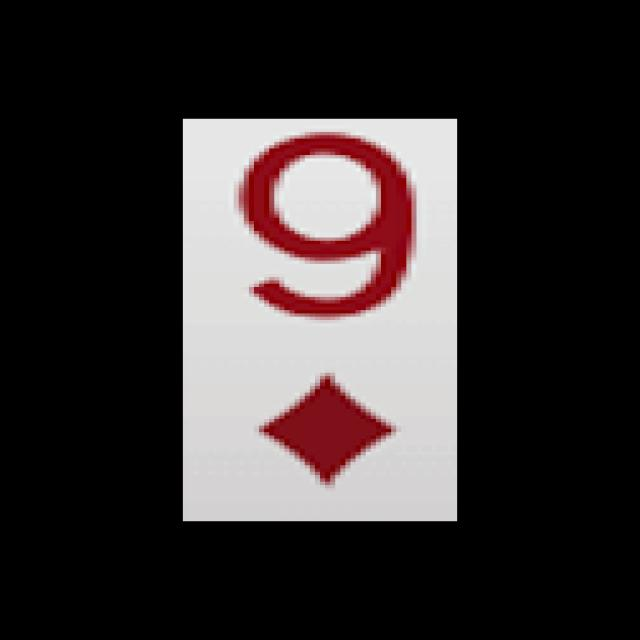9D: (207, 126, 435, 496)
